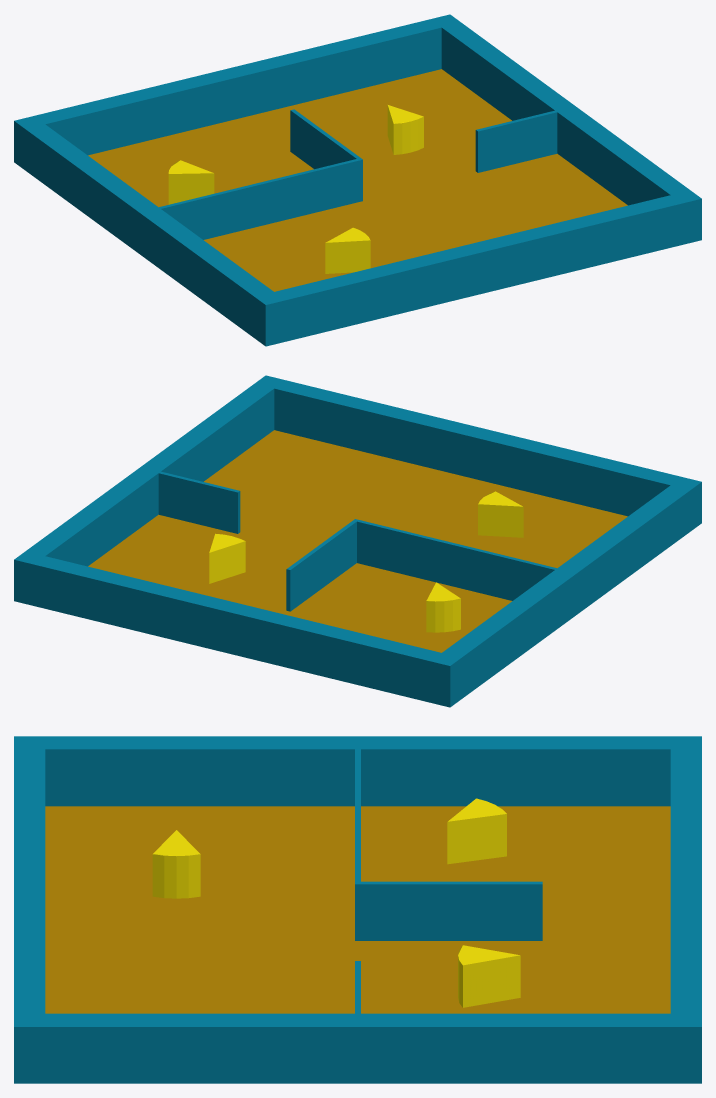
File: maze.dae
3 views of the same model, one above another, from view 1: azimuth 30°, elevation 25°; view 2: azimuth 150°, elevation 25°; view 3: azimuth 270°, elevation 25° (orthographic). The views are drawn at different scales.
Parts seen in each view (by area): view 1: Floor, WallS, WallN, WallW, WallE, Partition1, Item, Partition3, Partition2; view 2: Floor, WallN, WallS, WallW, WallE, Partition1, Item, Partition3, Partition2; view 3: Floor, WallE, WallW, Partition2, Item, WallN, WallS, Partition1.
Part boxes in pixels (<box>): Floor: <box>88,69,627,291</box>; WallS: <box>275,195,682,341</box>; WallN: <box>34,19,441,155</box>; WallW: <box>14,116,285,346</box>; WallE: <box>430,14,701,244</box>; Partition1: <box>159,159,358,239</box>; Item: <box>168,105,423,273</box>; Partition3: <box>475,110,557,172</box>; Partition2: <box>290,109,362,201</box>; Floor: <box>88,430,627,652</box>; WallN: <box>33,556,440,702</box>; WallS: <box>274,380,681,516</box>; WallW: <box>430,477,701,707</box>; WallE: <box>14,375,285,605</box>; Partition1: <box>357,520,556,600</box>; Item: <box>209,491,523,632</box>; Partition3: <box>158,471,240,533</box>; Partition2: <box>286,519,358,611</box>; Floor: <box>45,806,670,1013</box>; WallE: <box>14,1013,701,1083</box>; WallW: <box>14,736,701,806</box>; Partition2: <box>355,881,542,940</box>; Item: <box>152,798,520,1007</box>; WallN: <box>670,749,701,1013</box>; WallS: <box>14,749,45,1013</box>; Partition1: <box>355,749,360,881</box>.
Size of the model in its own units: 2.2 by 2.2 by 0.2.
